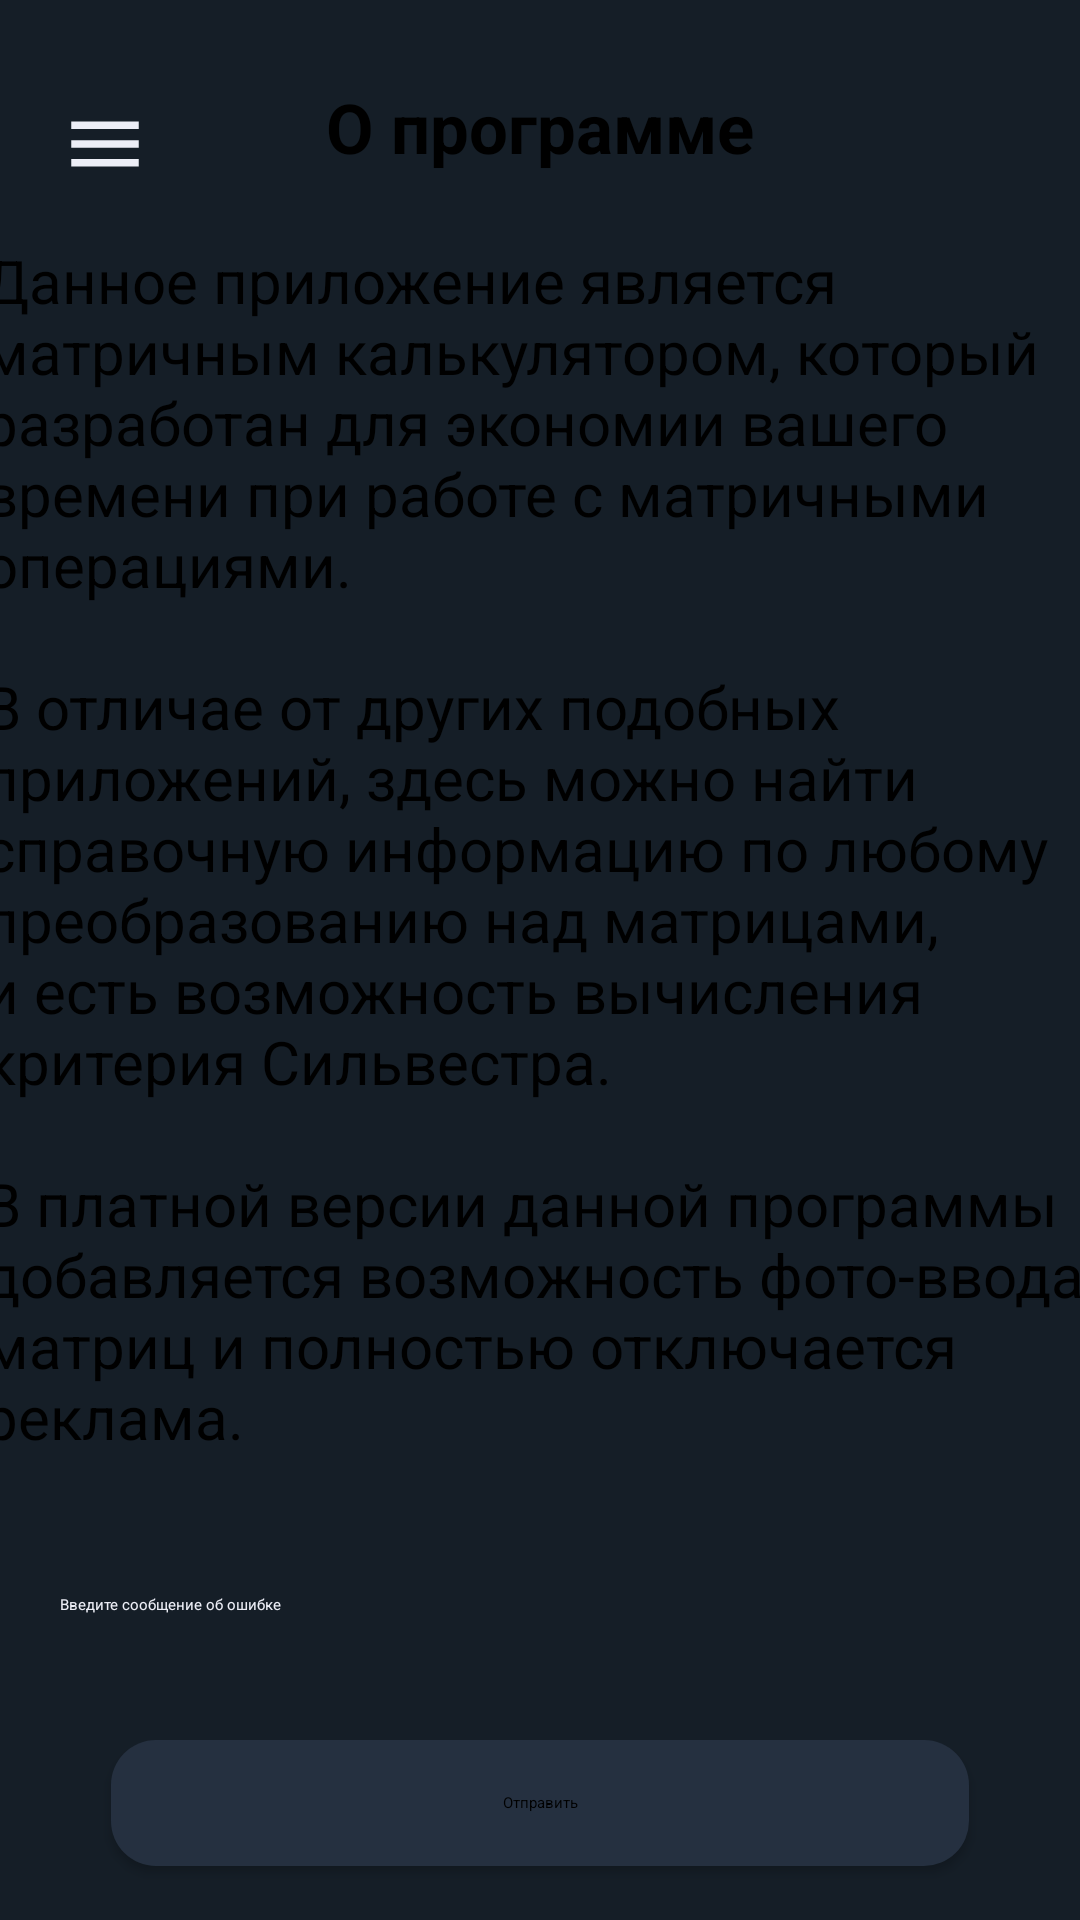

Point at icon controls on the screen. Image size 1080w x 1920h, points as (x=x, y=y).
nav: (x=105, y=144)
